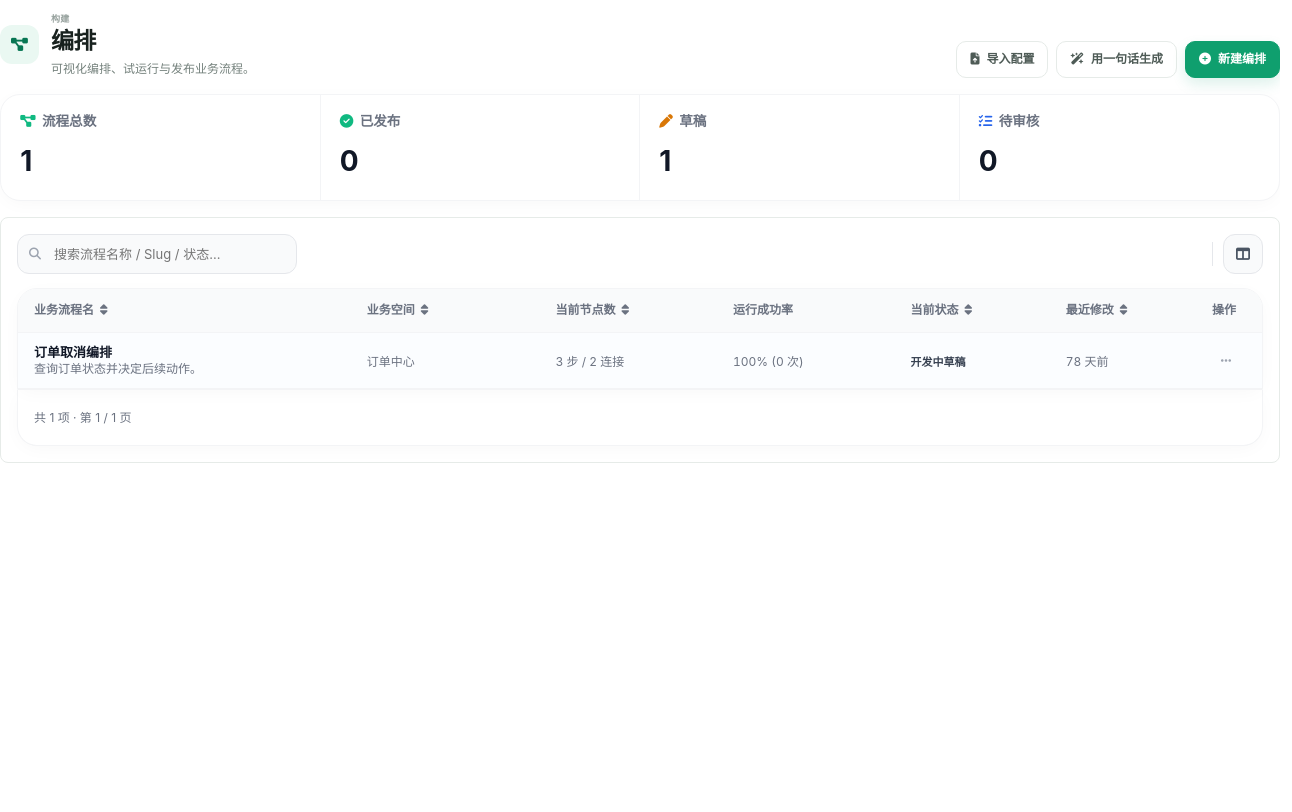
Test: workflow view P1.4 › prevents duplicate workflow validation while a validation request is pending
Click the button with class "management-row-actions-trigger" at (1226, 361), box [1208,343,1244,379]
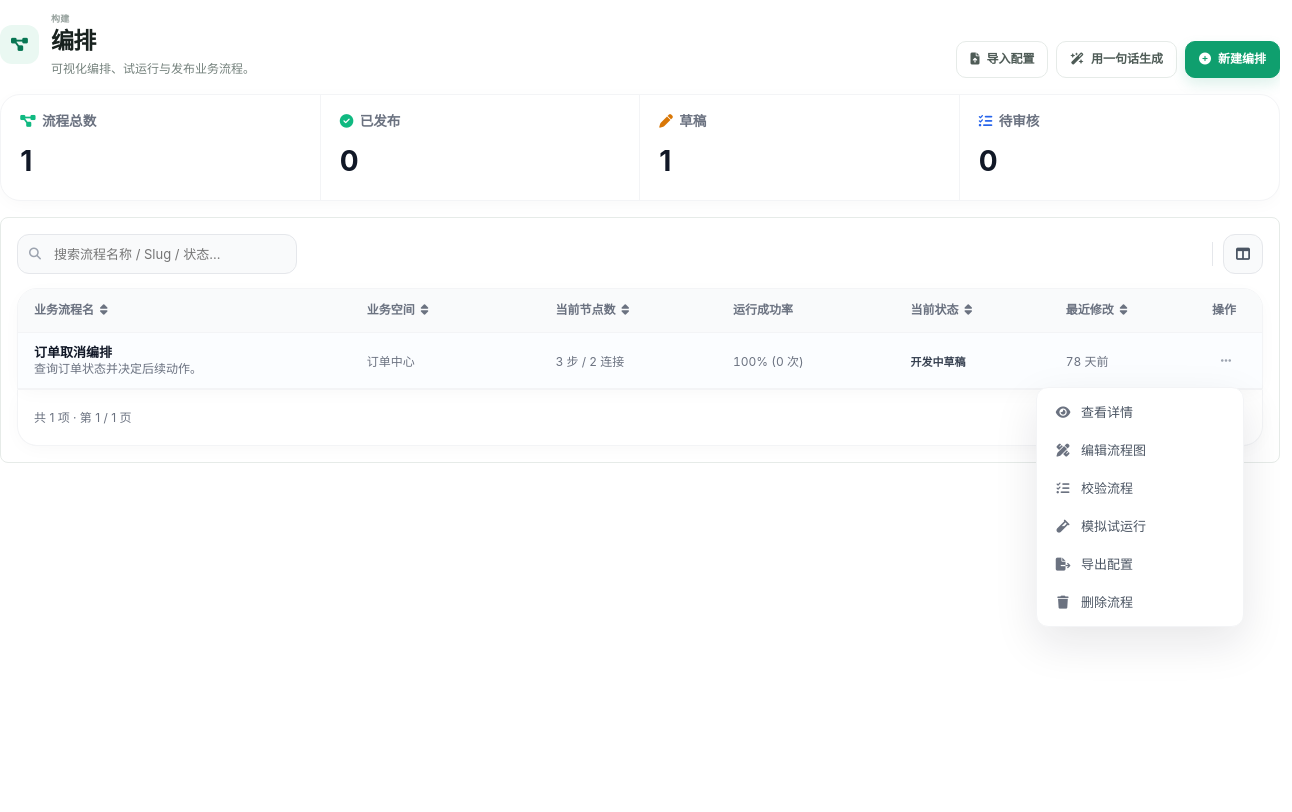
Click the menu item "校验流程" at (1140, 488), box [1043,470,1237,506]
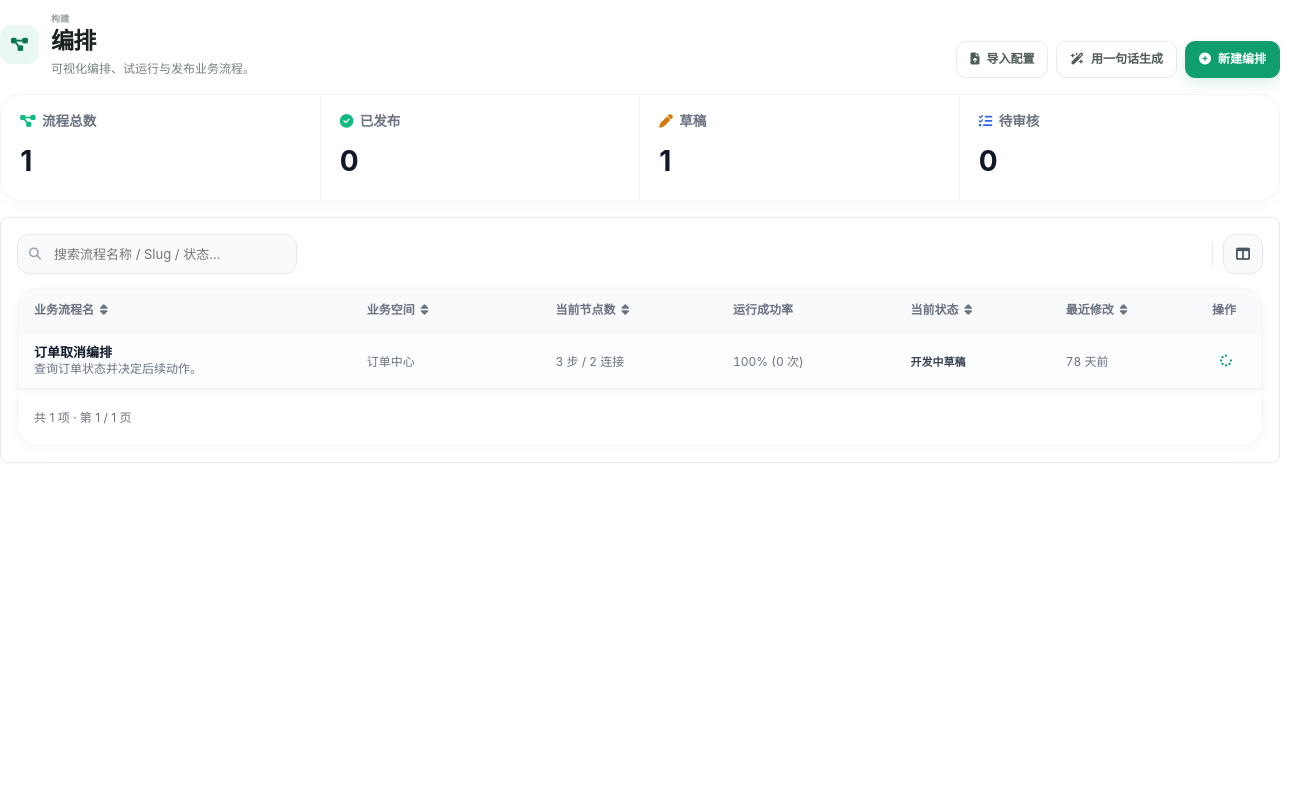
Click the button with class "management-row-actions-trigger" at (1226, 361), box [1208,343,1244,379]
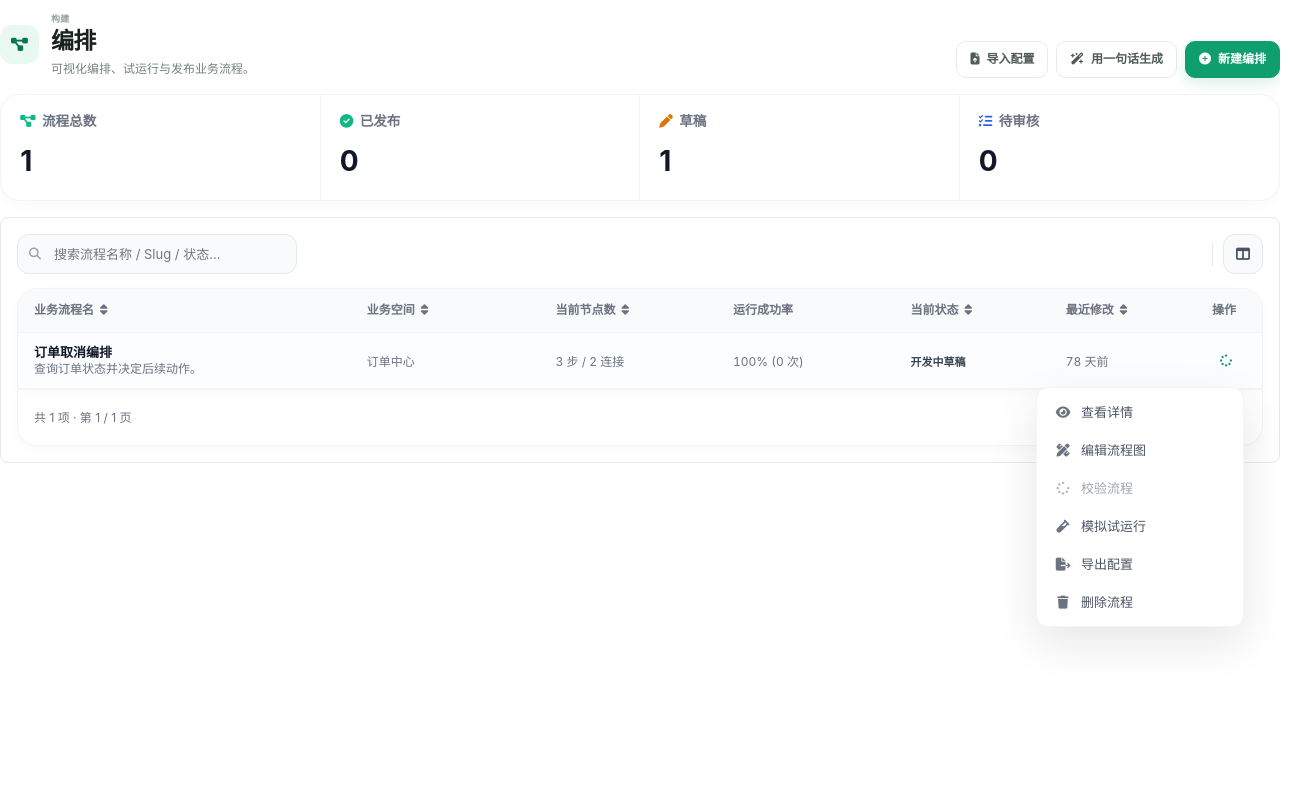
Expected: the menu item "校验流程" is disabled
Click the menu item "校验流程" at (1140, 488), box [1043,470,1237,506]
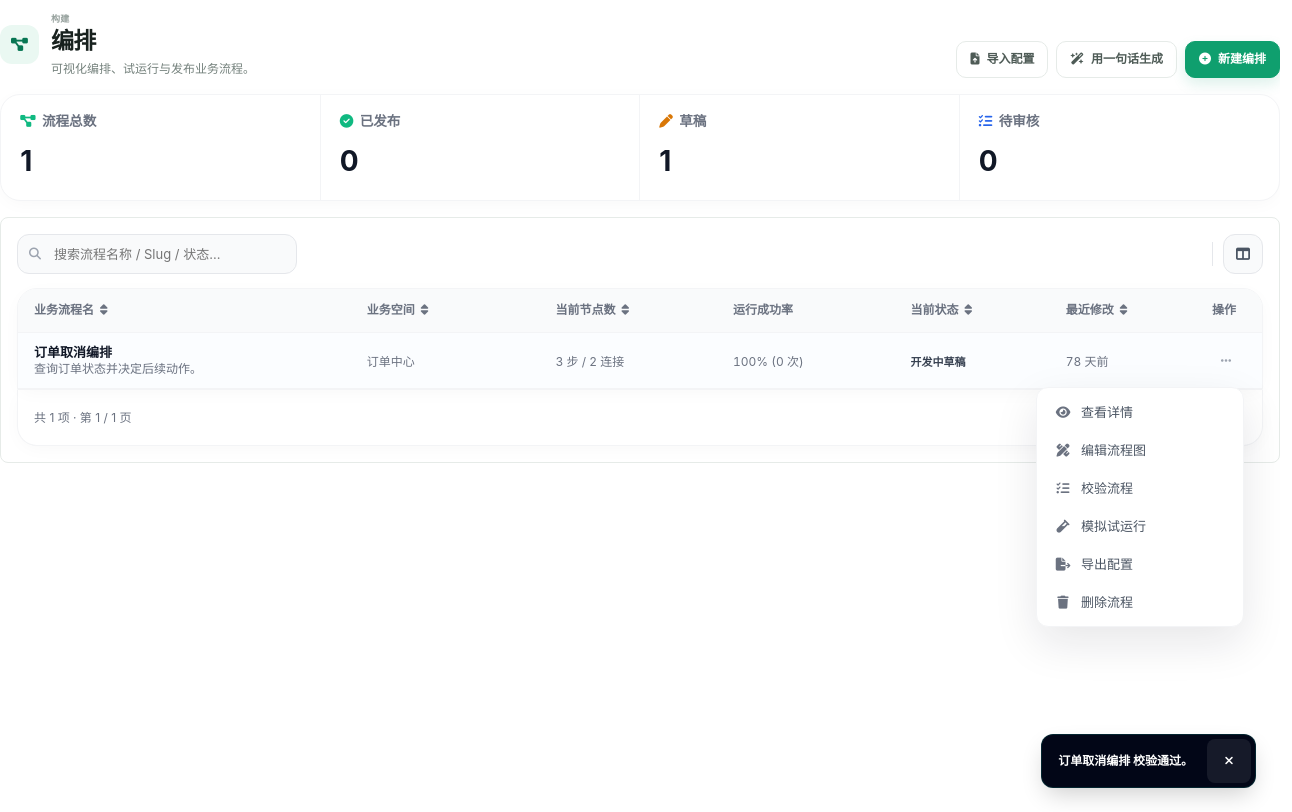
Expected: the text "校验通过" is shown, [1058,753,1193,768]
